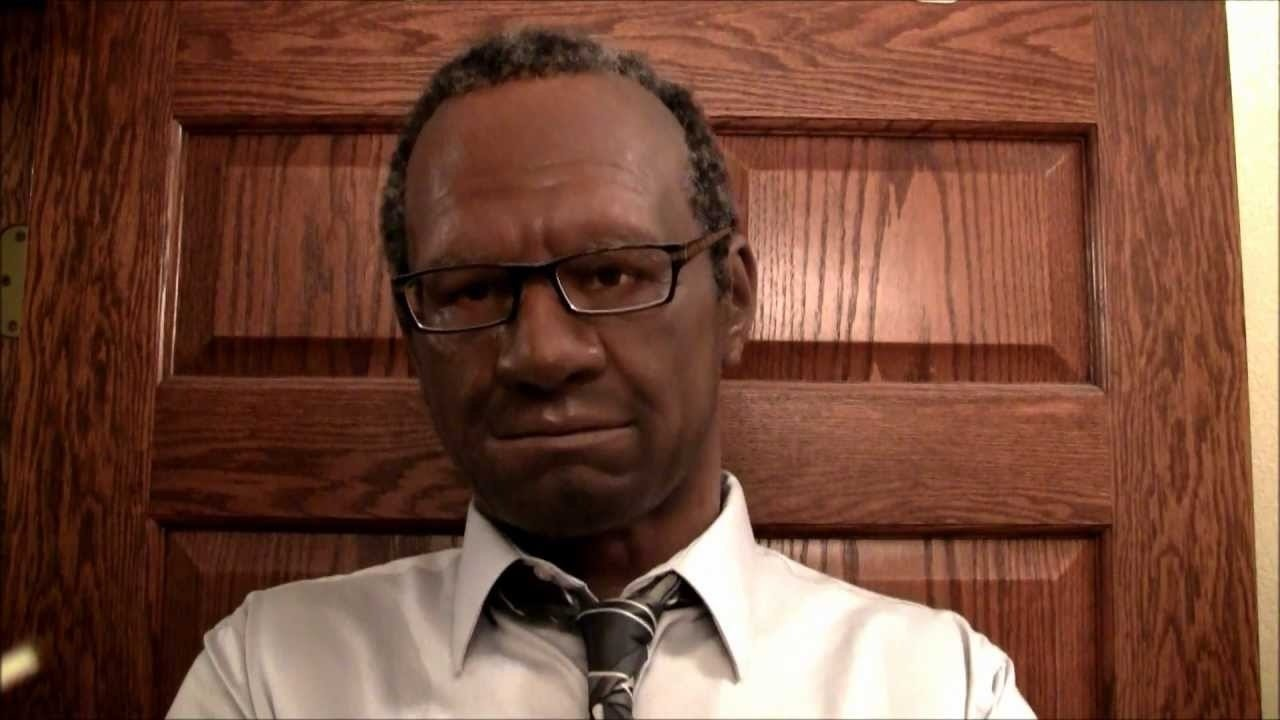face_no_mask: (370, 64, 761, 564)
